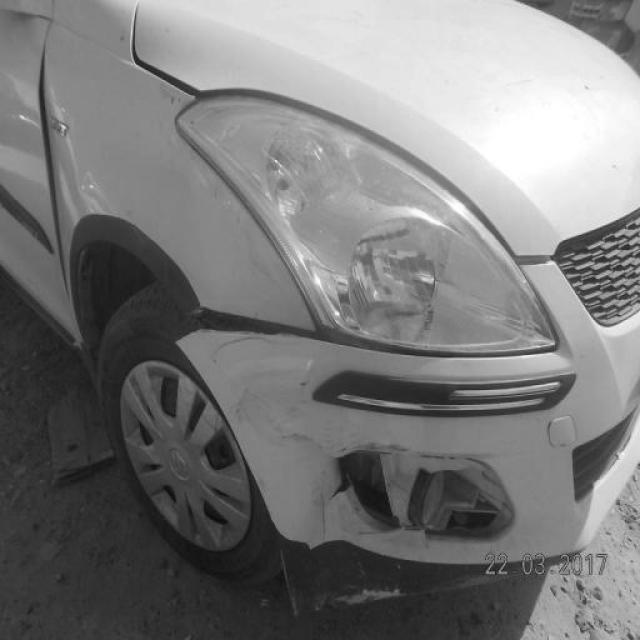dent: (208, 329, 336, 454)
misalignment: (176, 311, 452, 360), (35, 30, 72, 311)
shatter: (281, 429, 528, 548)
